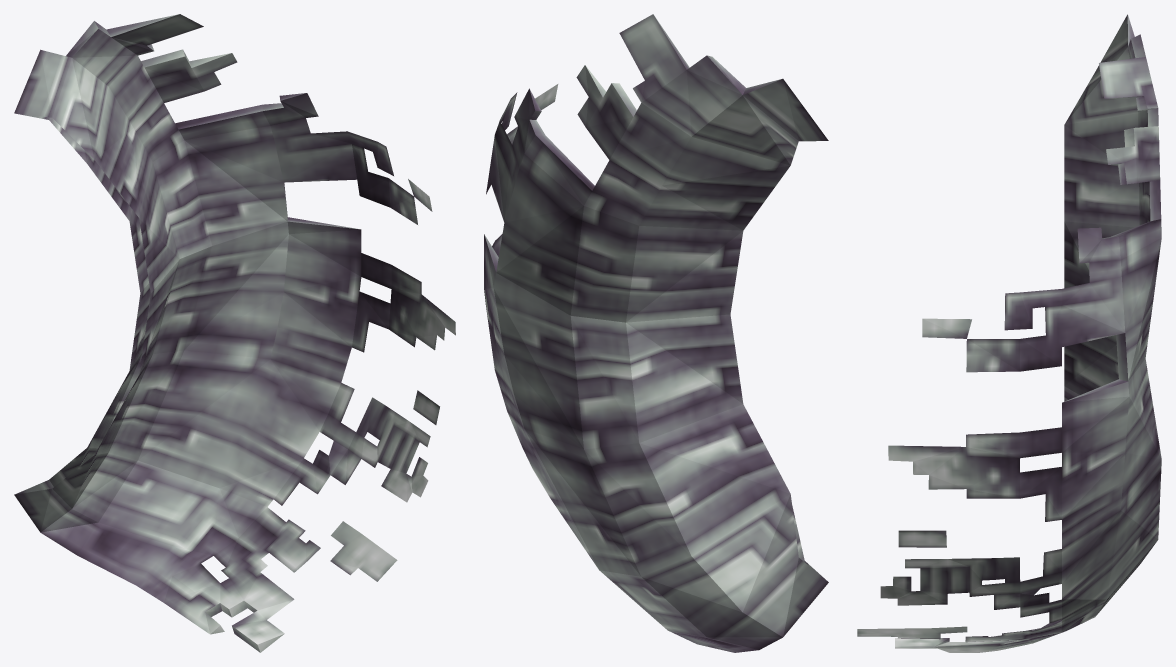
The picture shows the model from 3 angles, left to right: view 1: azimuth 30°, elevation 25°; view 2: azimuth 150°, elevation 25°; view 3: azimuth 270°, elevation 25°; orthographic projection. The views are drawn at different scales.
Visible parts, largest first — view 1: B_0099_2b_0; view 2: B_0099_2b_0; view 3: B_0099_2b_0.
Part boxes in pixels (box(x1,y1,x2,y2)): B_0099_2b_0: box(14, 14, 455, 652); B_0099_2b_0: box(484, 14, 828, 652); B_0099_2b_0: box(857, 14, 1161, 652).
Size of the model in its own units: 2.69 by 4.32 by 2.
1 material, 1 textured.
